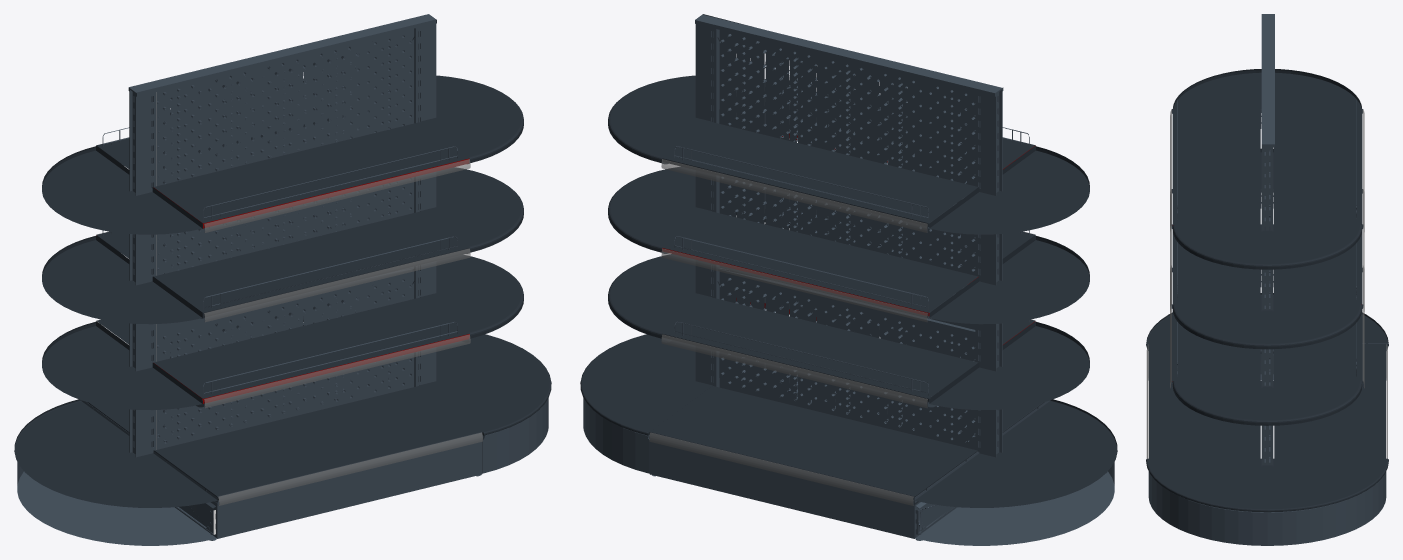
The model's file is CIRCULAR GONDOLA.glb.
3 renders of one model, left to right at view 1: azimuth 30°, elevation 25°; view 2: azimuth 150°, elevation 25°; view 3: azimuth 270°, elevation 25°, orthographic. The views are drawn at different scales.
Bounding box in the file's own units: 1.8 × 1.4 × 0.8497.
